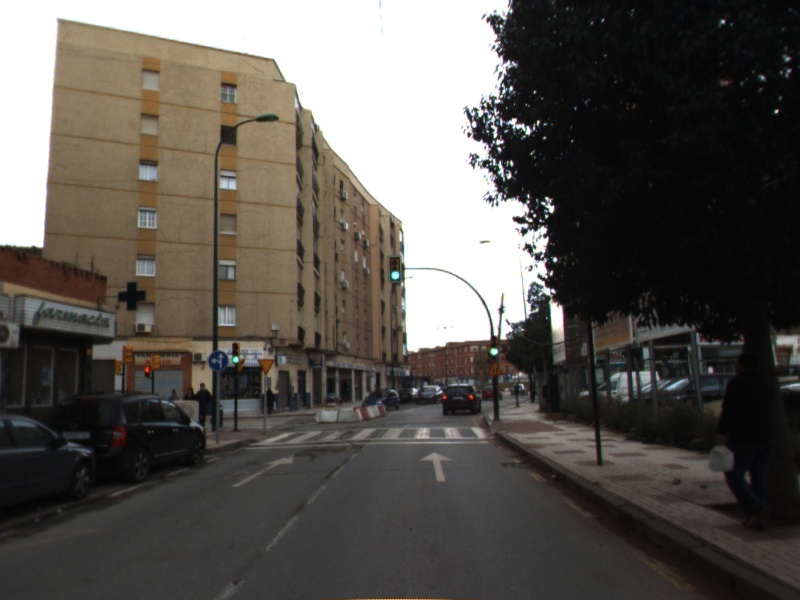STRAIGHT: (228, 451, 295, 490), (417, 450, 454, 484)
